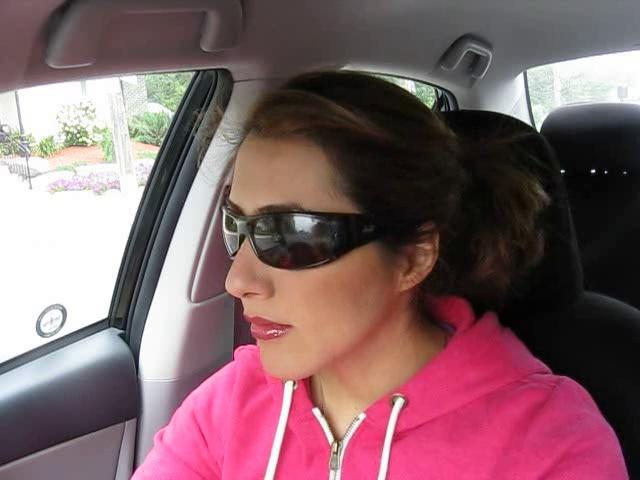no_yawn: (231, 303, 305, 354)
